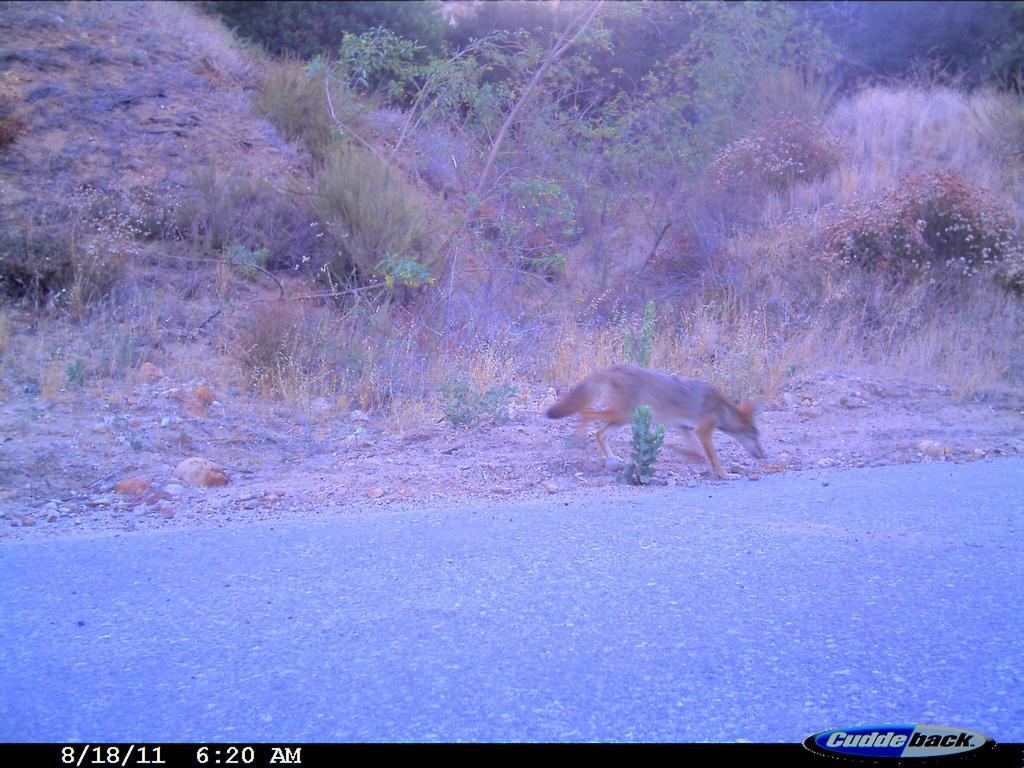coyote: (545, 361, 765, 487)
